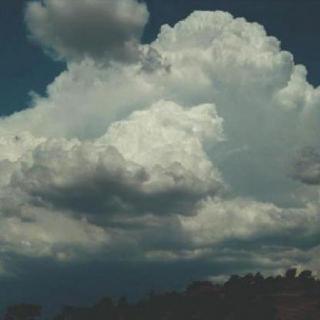Cumulonimbus: (0, 0, 320, 268)
